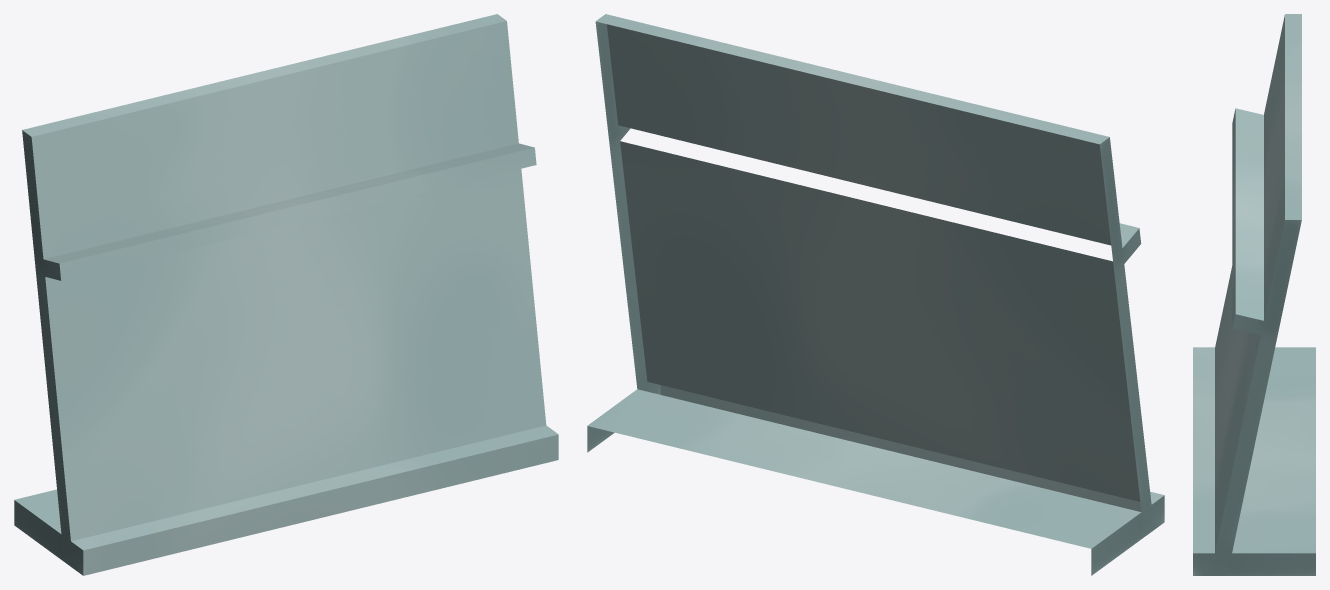
File: SM_stand01.FBX
3 renders of one model, left to right at view 1: azimuth 30°, elevation 25°; view 2: azimuth 150°, elevation 25°; view 3: azimuth 270°, elevation 25°, orthographic. The views are drawn at different scales.
Visible parts, largest first — view 1: stand01; view 2: stand01; view 3: stand01.
Boxes of the visible parts, x1=… form: stand01: x1=14, y1=14, x2=558, y2=575; stand01: x1=587, y1=14, x2=1164, y2=575; stand01: x1=1193, y1=14, x2=1315, y2=575.
Size of the model in its own units: 151 by 122 by 38.03.
Materials: 1 (1 with a texture image).
